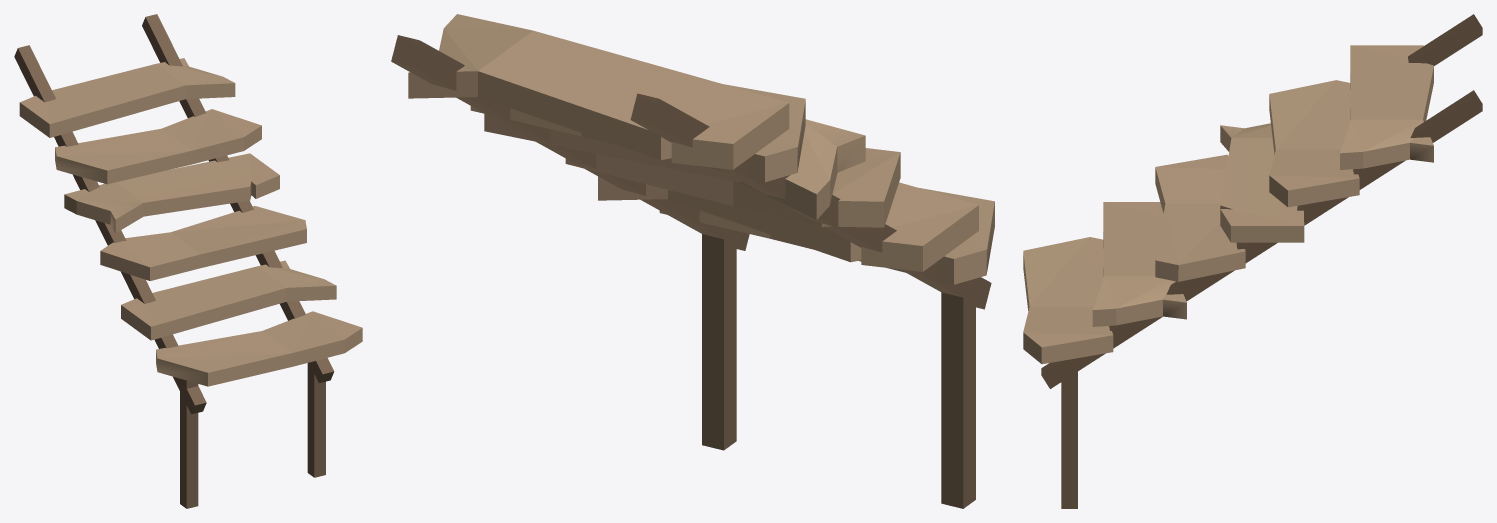
Rendered from Stairs_2.fbx.
3 renders of one model, left to right at view 1: azimuth 30°, elevation 25°; view 2: azimuth 150°, elevation 25°; view 3: azimuth 270°, elevation 25°, orthographic. The views are drawn at different scales.
Visible parts, largest first — view 1: Stairs_2; view 2: Stairs_2; view 3: Stairs_2.
Part boxes in pixels (<box>): Stairs_2: <box>14,14,362,508</box>; Stairs_2: <box>391,14,994,508</box>; Stairs_2: <box>1023,14,1482,508</box>.
Bounding box in the file's own units: 129 × 223 × 225.
Materials: 1 (1 with a texture image).
